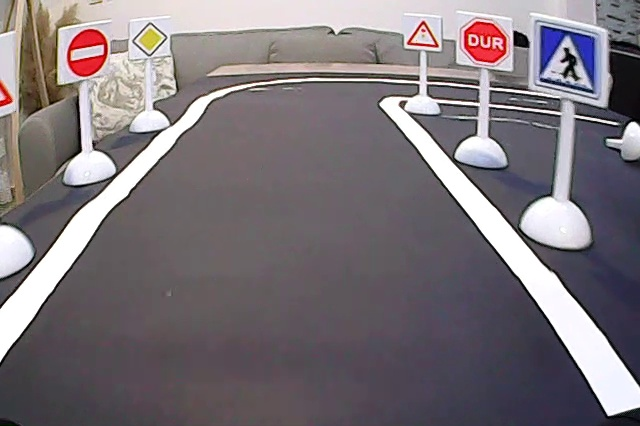do not enter: (58, 31, 110, 81)
pedestrian crossing: (534, 17, 607, 101)
red light: (403, 14, 441, 49)
stop sign: (459, 12, 516, 70)
